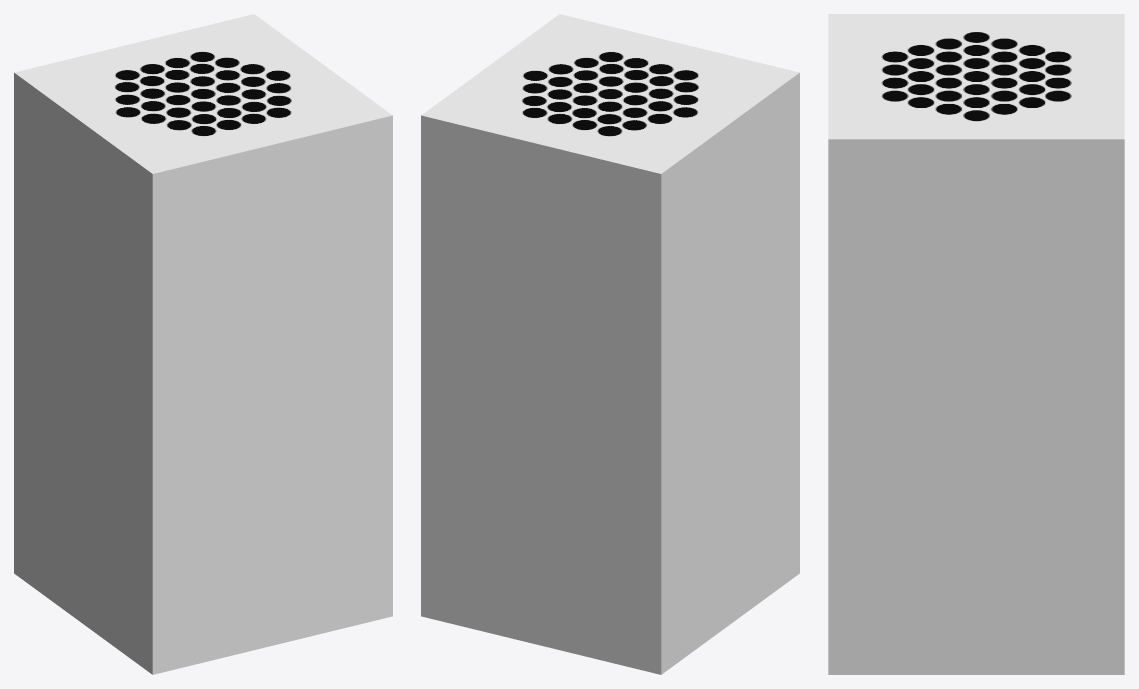
The model's file is FBox-Series-X.obj.
3 views of the same model, side by side, from view 1: azimuth 30°, elevation 25°; view 2: azimuth 150°, elevation 25°; view 3: azimuth 270°, elevation 25° (orthographic). The views are drawn at different scales.
Visible parts, largest first — view 1: FBox-Series-X; view 2: FBox-Series-X; view 3: FBox-Series-X.
Boxes of the visible parts, x1,y1,x2,y2 form: FBox-Series-X: (14, 14, 392, 674); FBox-Series-X: (421, 14, 799, 674); FBox-Series-X: (828, 14, 1124, 674).
Size of the model in its own units: 15.1 by 30.1 by 15.1.
